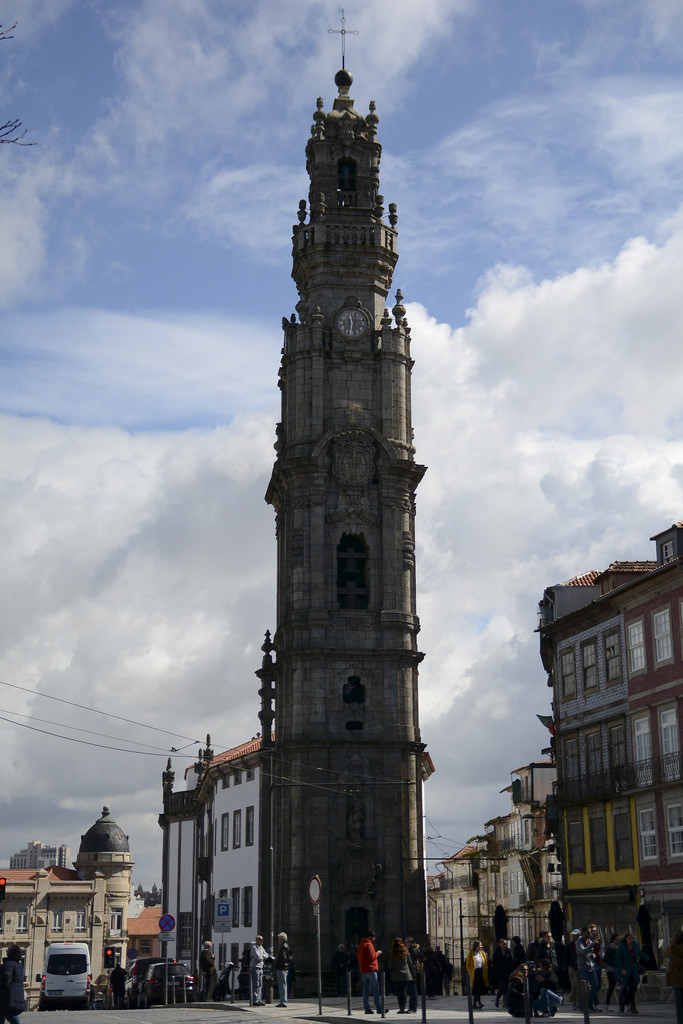clerigos: (255, 6, 436, 979)
